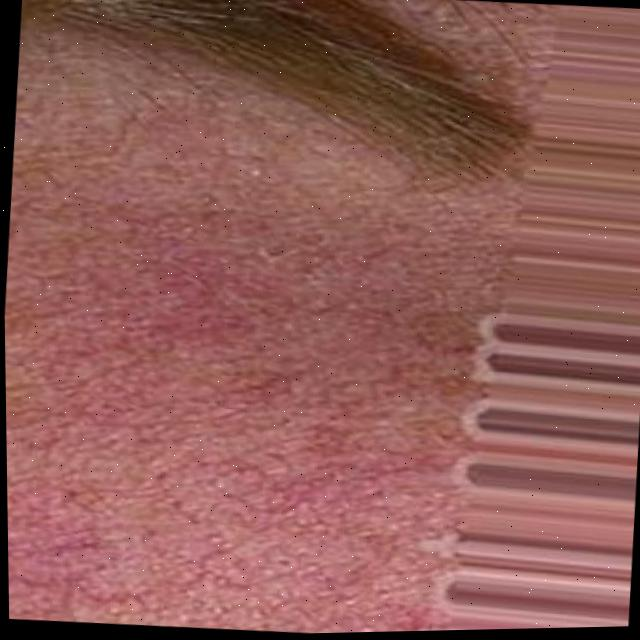Rosacea: (4, 229, 479, 640)
